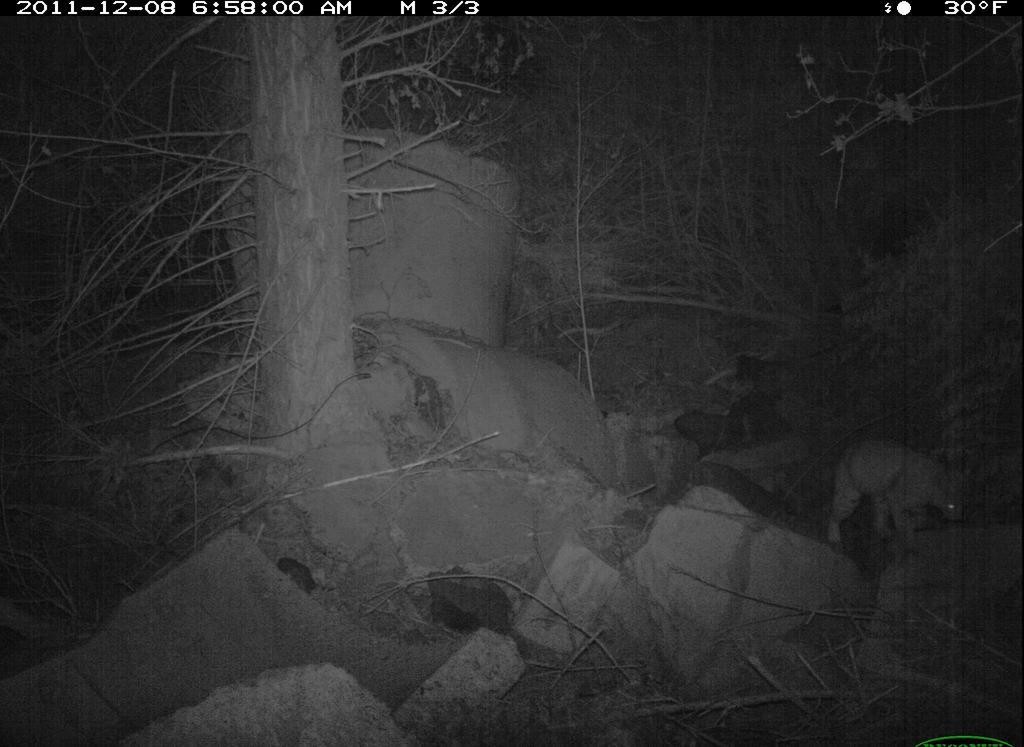bobcat: (810, 417, 984, 566)
